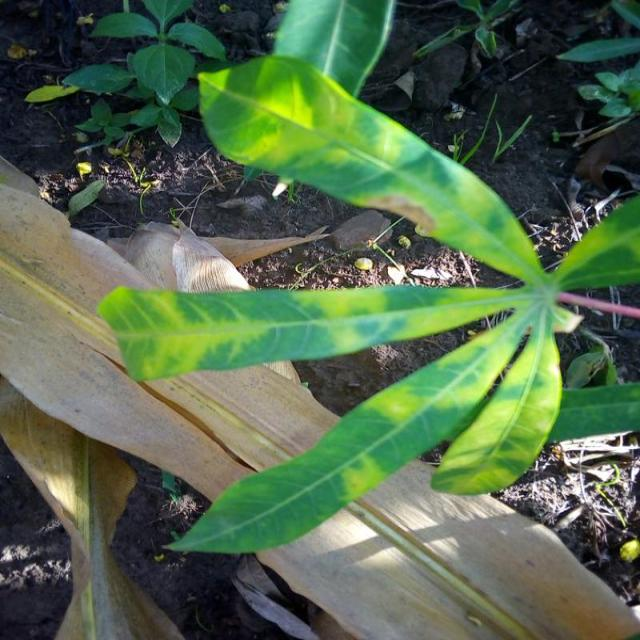cassava leaf: (97, 50, 638, 557)
